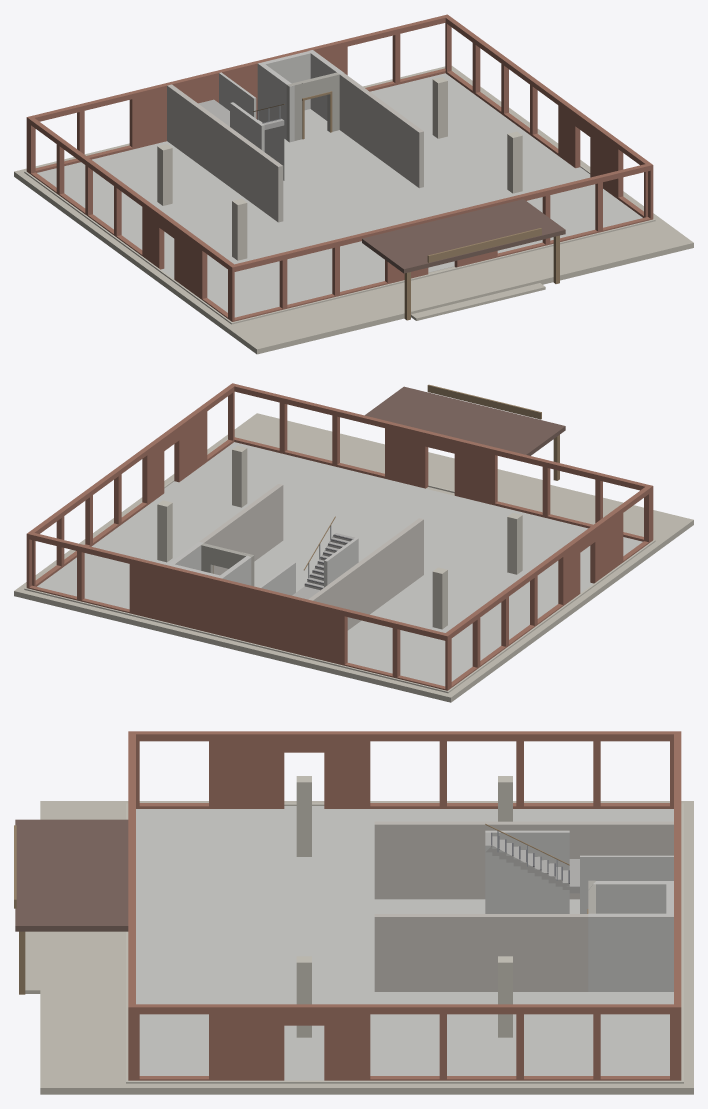
File: brick-lobby.zfix-v3.lod0.glb
3 views of the same model, one above another, from view 1: azimuth 30°, elevation 25°; view 2: azimuth 150°, elevation 25°; view 3: azimuth 270°, elevation 25° (orthographic). The views are drawn at different scales.
Parts seen in each view (by area): view 1: brick-lobby; view 2: brick-lobby; view 3: brick-lobby.
Part boxes in pixels (left/top/right/bottom): brick-lobby: left=14, top=14, right=693, bottom=354; brick-lobby: left=14, top=383, right=693, bottom=702; brick-lobby: left=14, top=731, right=693, bottom=1094.
Size of the model in its own units: 27 by 4.89 by 27.05.
